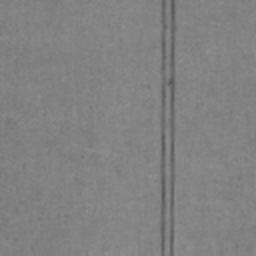Scratches: (160, 0, 177, 256)
